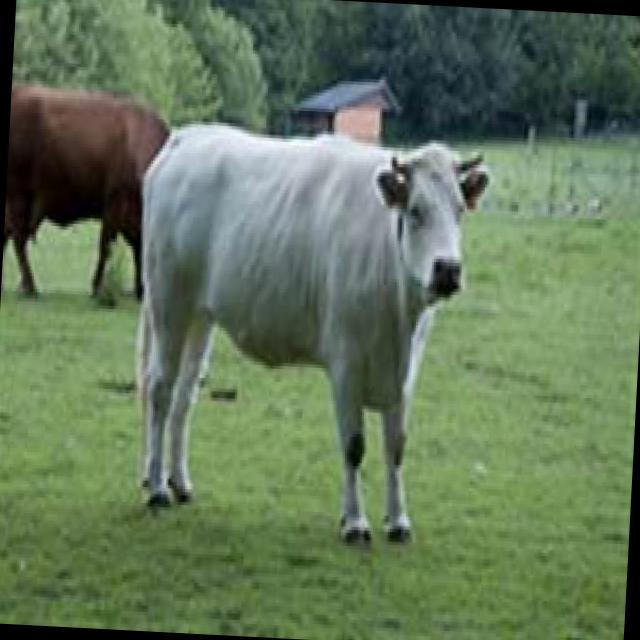cow: (123, 121, 486, 529), (1, 86, 170, 306)
